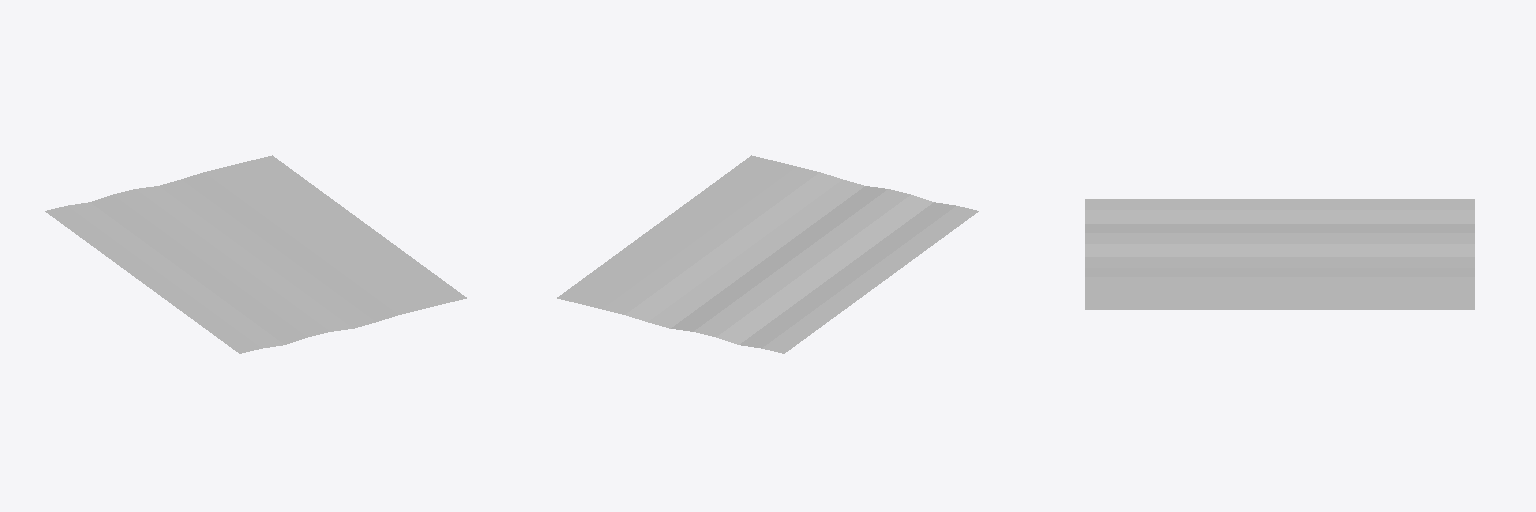
File: water.obj
3 views of the same model, side by side, from view 1: azimuth 30°, elevation 25°; view 2: azimuth 150°, elevation 25°; view 3: azimuth 270°, elevation 25° (orthographic).
Visible parts, largest first — view 1: pPlane3; view 2: pPlane3; view 3: pPlane3.
Part boxes in pixels (x1,y1,x2,y2): pPlane3: (45, 155, 466, 353); pPlane3: (557, 155, 978, 353); pPlane3: (1085, 199, 1474, 309).
Size of the model in its own units: 361 by 4.02 by 535.